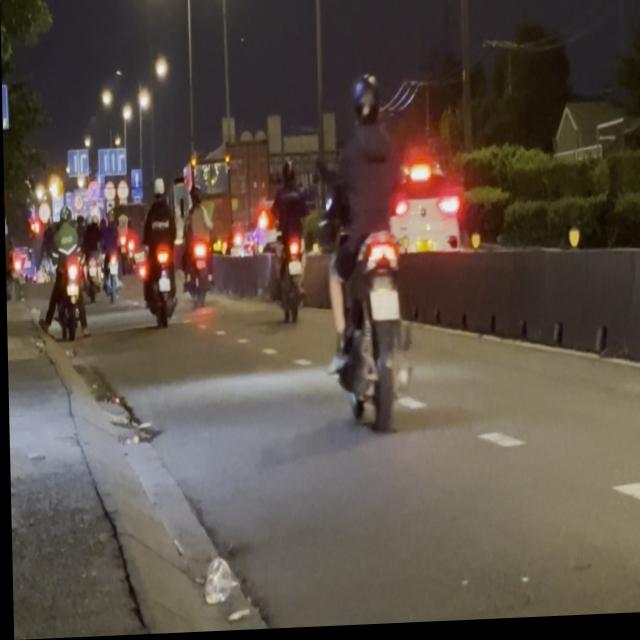helmet: (352, 76, 383, 130)
licenseplate: (322, 73, 412, 434)
nohelmet: (369, 291, 399, 323)
